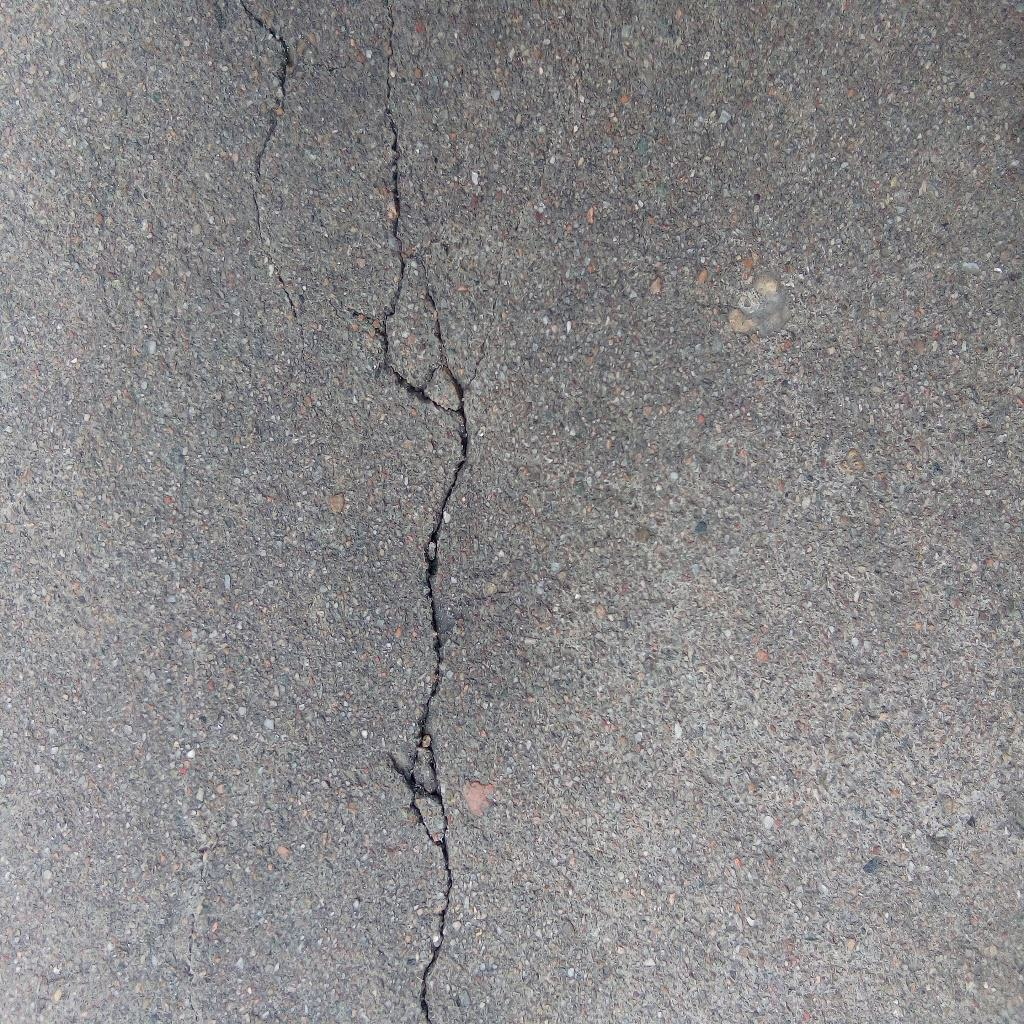Crack: (347, 1, 473, 1024), (241, 1, 306, 358)
